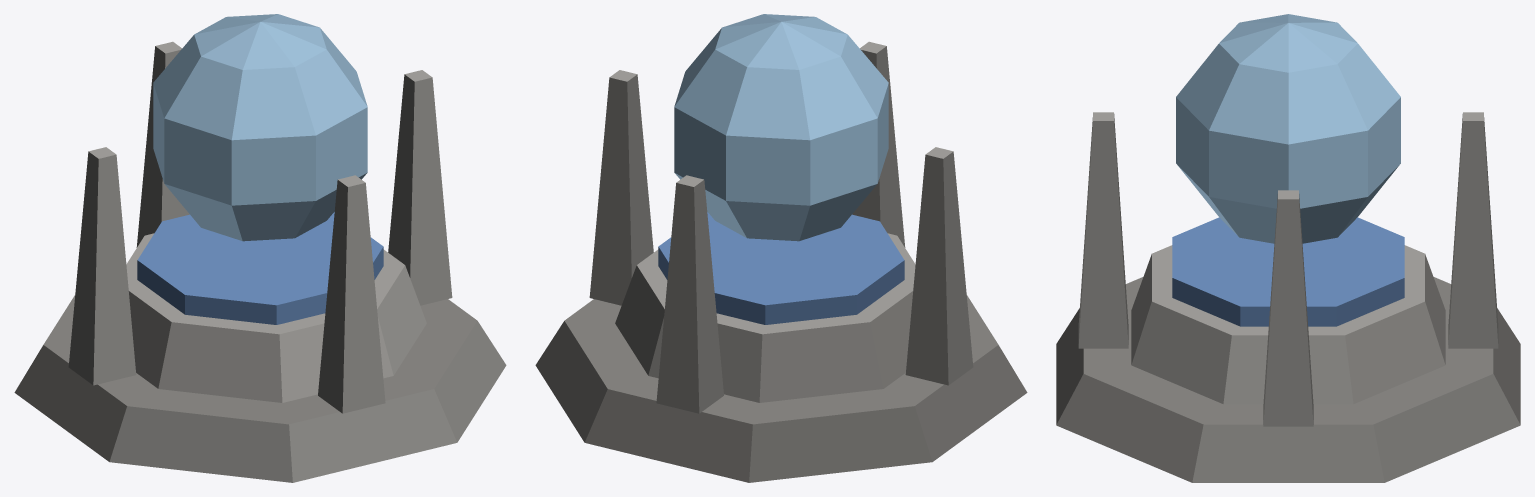
Rendered from inhibitor_blue.glb.
3 renders of one model, left to right at view 1: azimuth 30°, elevation 25°; view 2: azimuth 150°, elevation 25°; view 3: azimuth 270°, elevation 25°, orthographic.
Size of the model in its own units: 3.14 by 2.7 by 3.14.
